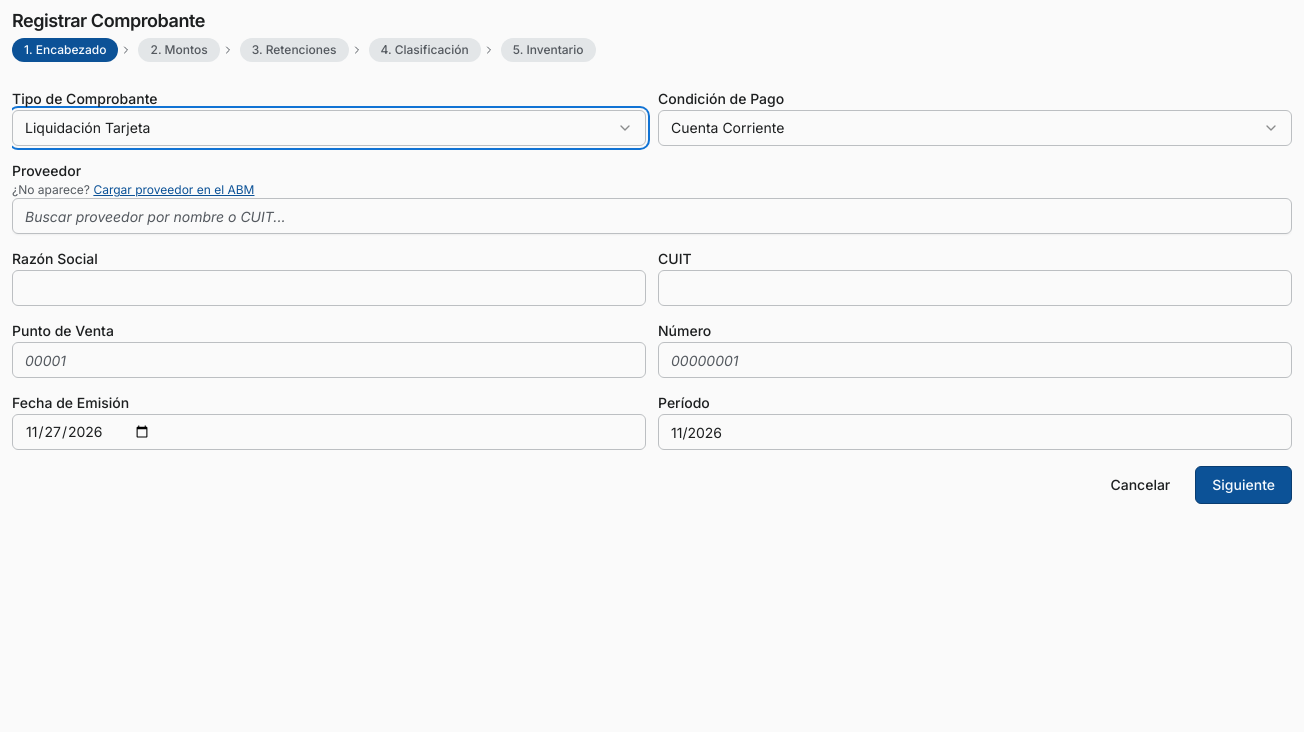
InvoiceDialog — unifiedLayout › mantiene sólo en la liquidación los cinco campos, en layout unificado: false
The width and height of the screenshot is (1304, 732).
Earlier steps of the test are not shown.
Click the button with test id "btn-next-step" at (1244, 485), box [1195,466,1292,504]
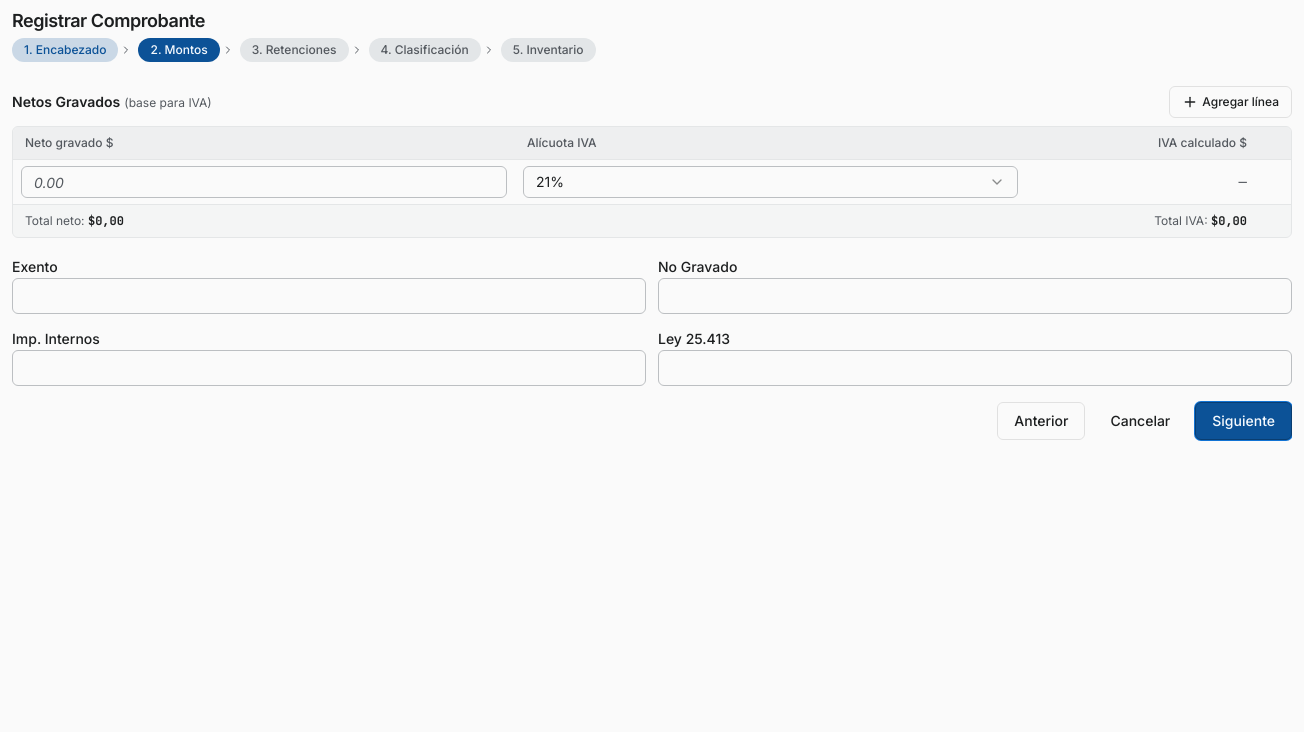
Click the button with test id "btn-next-step" at (1244, 421), box [1195,402,1292,440]
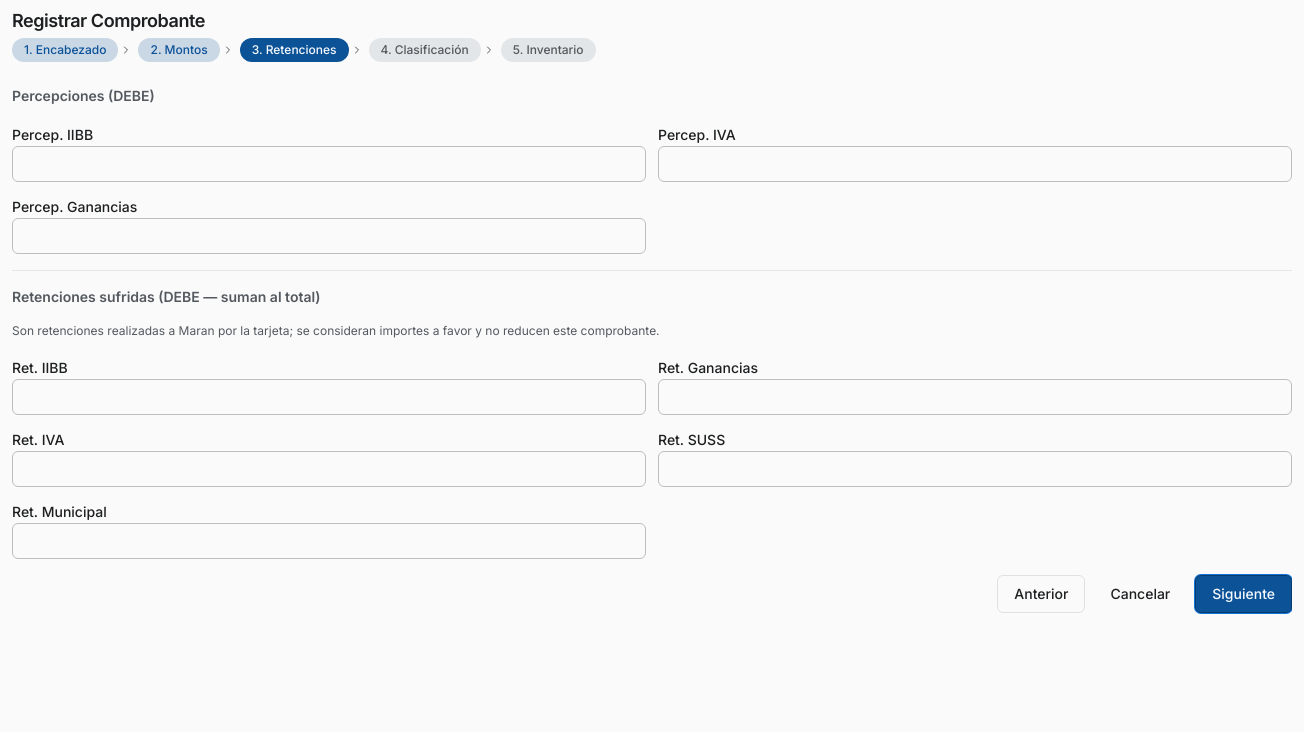
expect the number field with test id "input-ret-iibb" is shown: met, box [12,379,646,415]
expect the number field with test id "input-ret-ganancias" is shown: met, box [658,379,1292,415]
expect the number field with test id "input-ret-iva" is shown: met, box [12,451,646,487]
